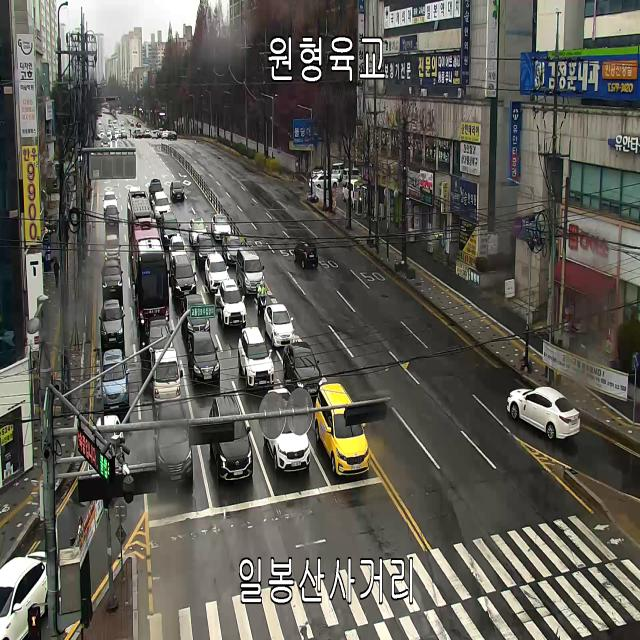Bus: (132, 218, 172, 328), (127, 190, 154, 258)
Car: (0, 551, 61, 640), (315, 383, 370, 476), (264, 388, 311, 473), (507, 386, 580, 439), (210, 395, 253, 482), (154, 400, 193, 487), (238, 326, 275, 389), (283, 342, 323, 396), (88, 415, 124, 471), (102, 350, 130, 411), (188, 331, 220, 384), (217, 279, 246, 327), (236, 248, 265, 296), (182, 294, 210, 340), (99, 299, 125, 348), (264, 304, 294, 346), (171, 254, 197, 300), (148, 319, 174, 363), (205, 253, 229, 293), (102, 260, 123, 295), (160, 213, 181, 246), (294, 241, 318, 269), (196, 234, 215, 268), (222, 235, 242, 265), (169, 236, 187, 268), (342, 179, 362, 206), (153, 192, 171, 222), (189, 218, 208, 246), (211, 214, 231, 240), (309, 173, 339, 188), (105, 235, 121, 262), (150, 178, 164, 206), (103, 191, 118, 214), (342, 169, 362, 186), (170, 180, 185, 202), (106, 205, 120, 227), (332, 162, 344, 182), (313, 167, 328, 179), (101, 138, 110, 148), (168, 131, 177, 141), (110, 132, 116, 141), (121, 132, 128, 139), (152, 131, 158, 139), (144, 130, 150, 138), (136, 130, 142, 138), (162, 132, 168, 139), (159, 128, 164, 136), (117, 132, 121, 139), (157, 130, 159, 137)
Motorcycle: (257, 281, 268, 316)
Truck: (151, 348, 183, 409)
